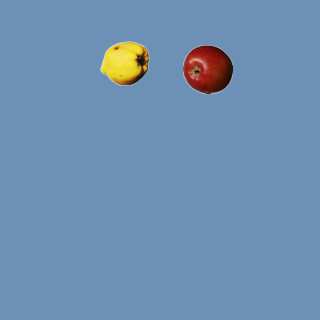Apple Braeburn: (182, 44, 232, 94)
Quince: (99, 38, 149, 88)
